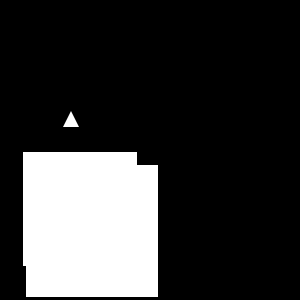circle: (26, 165, 158, 297), (23, 152, 137, 266)
triangle: (63, 111, 79, 127)
